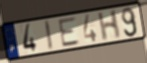4: (22, 22, 39, 55), (84, 13, 99, 44)
9: (121, 6, 140, 39)
E: (57, 16, 82, 49)
H: (97, 9, 122, 43)
I: (43, 19, 55, 52)
